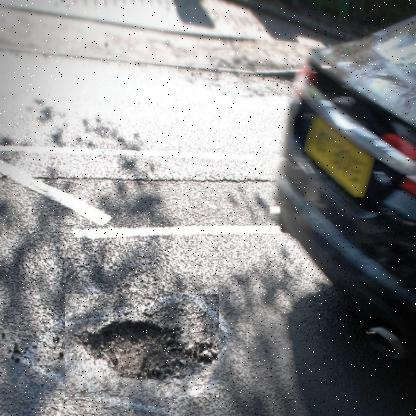pothole: (64, 294, 219, 398)
